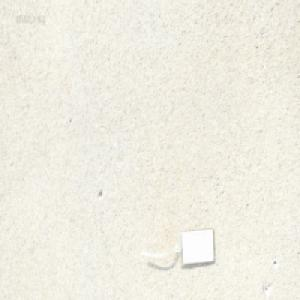LuggageTag: (138, 226, 214, 268)
